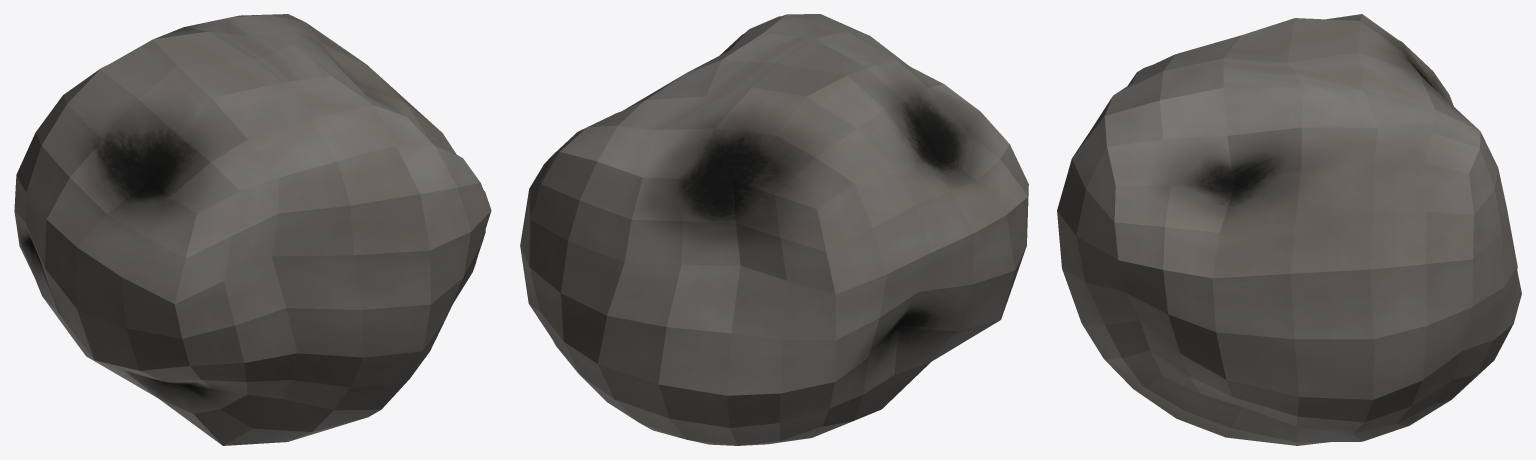
Rendered from asteroid_center.fbx.
3 renders of one model, left to right at view 1: azimuth 30°, elevation 25°; view 2: azimuth 150°, elevation 25°; view 3: azimuth 270°, elevation 25°, orthographic.
Parts seen in each view (by area): view 1: asteroid; view 2: asteroid; view 3: asteroid.
Part boxes in pixels (x1,y1,x2,y2): asteroid: (14,14,491,445); asteroid: (520,14,1028,445); asteroid: (1057,14,1521,445).
Size of the model in its own units: 1982 by 1690 by 1946.
